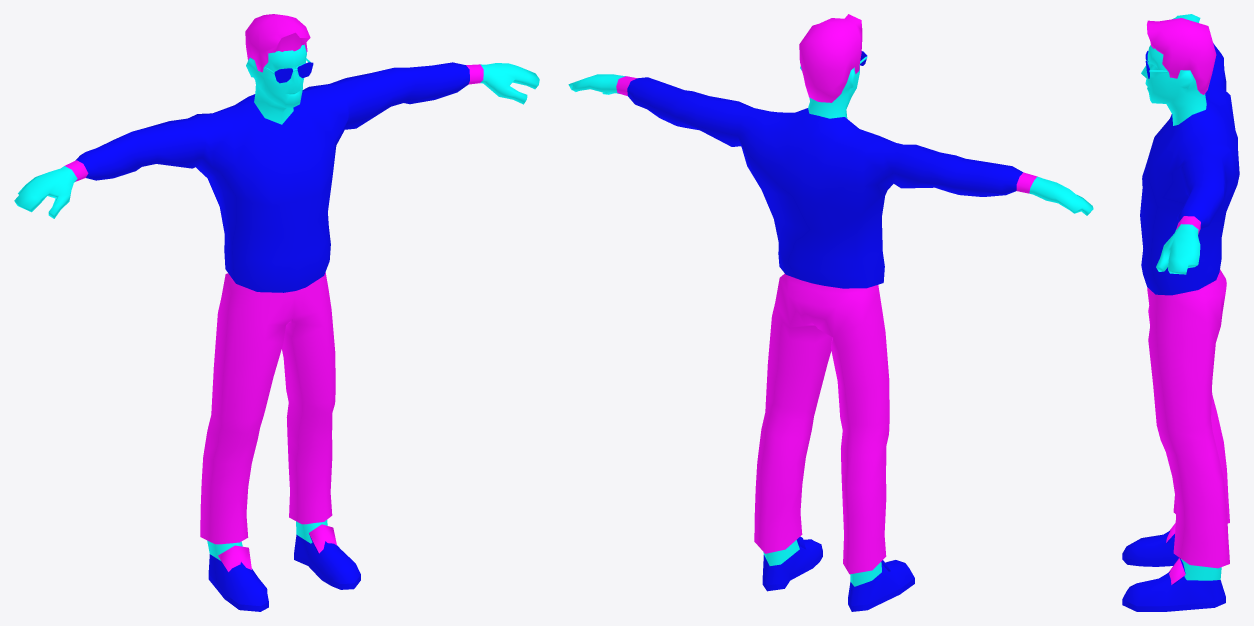
Rendered from character.glb.
3 renders of one model, left to right at view 1: azimuth 30°, elevation 25°; view 2: azimuth 150°, elevation 25°; view 3: azimuth 270°, elevation 25°, orthographic.
Parts seen in each view (by area): view 1: casual_Male_A; view 2: casual_Male_A; view 3: casual_Male_A.
Boxes of the visible parts, box(x1,y1,x2,y2) form: casual_Male_A: box(14, 14, 539, 611); casual_Male_A: box(568, 14, 1093, 611); casual_Male_A: box(1122, 14, 1239, 611).
Size of the model in its own units: 1.67 by 1.72 by 0.3264.
1 material, 1 textured.
